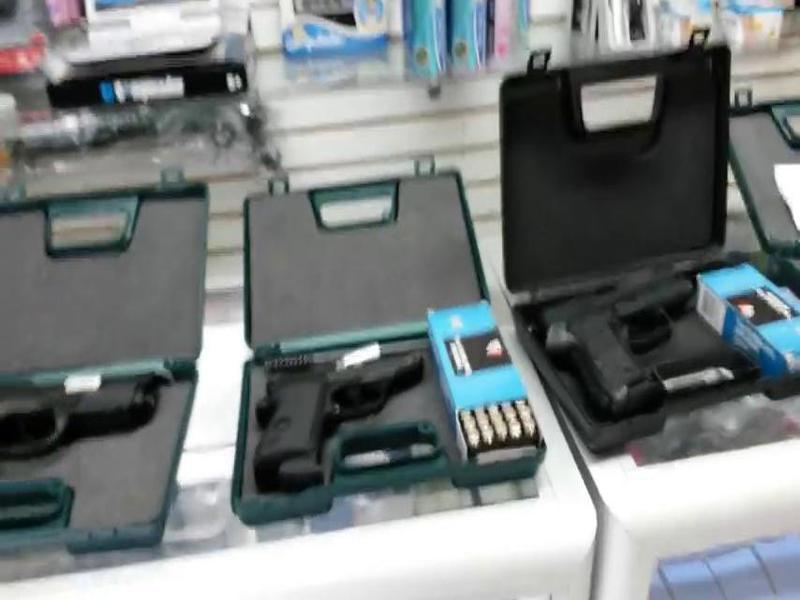Pistola: (237, 331, 457, 501), (527, 265, 729, 423)
